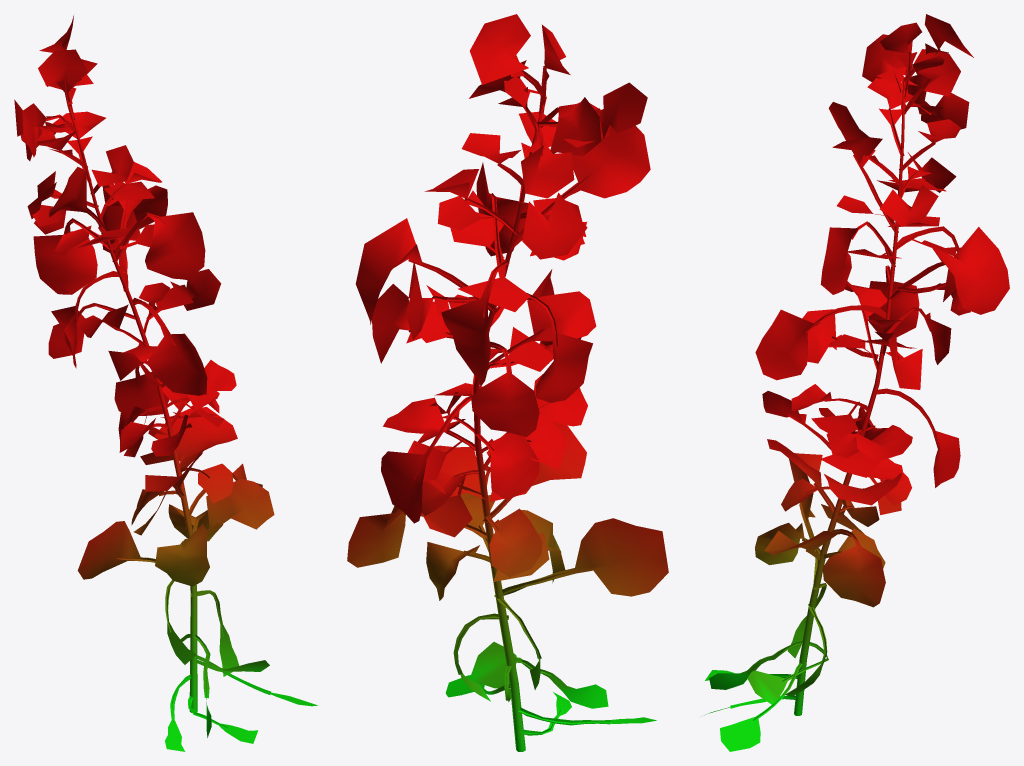
The model's file is Var4_LOD0.fbx.
3 renders of one model, left to right at view 1: azimuth 30°, elevation 25°; view 2: azimuth 150°, elevation 25°; view 3: azimuth 270°, elevation 25°, orthographic. The views are drawn at different scales.
Parts seen in each view (by area): view 1: _7404_Var4_LOD0; view 2: _7404_Var4_LOD0; view 3: _7404_Var4_LOD0.
Part boxes in pixels (<box>): _7404_Var4_LOD0: <box>14,15,317,751</box>; _7404_Var4_LOD0: <box>347,14,668,751</box>; _7404_Var4_LOD0: <box>701,14,1009,751</box>.
Size of the model in its own units: 24.76 by 65.51 by 27.7.
